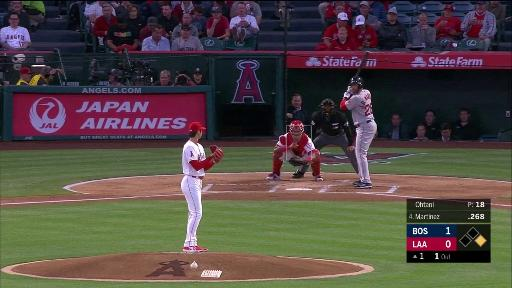pitcher: (181, 122, 225, 252)
